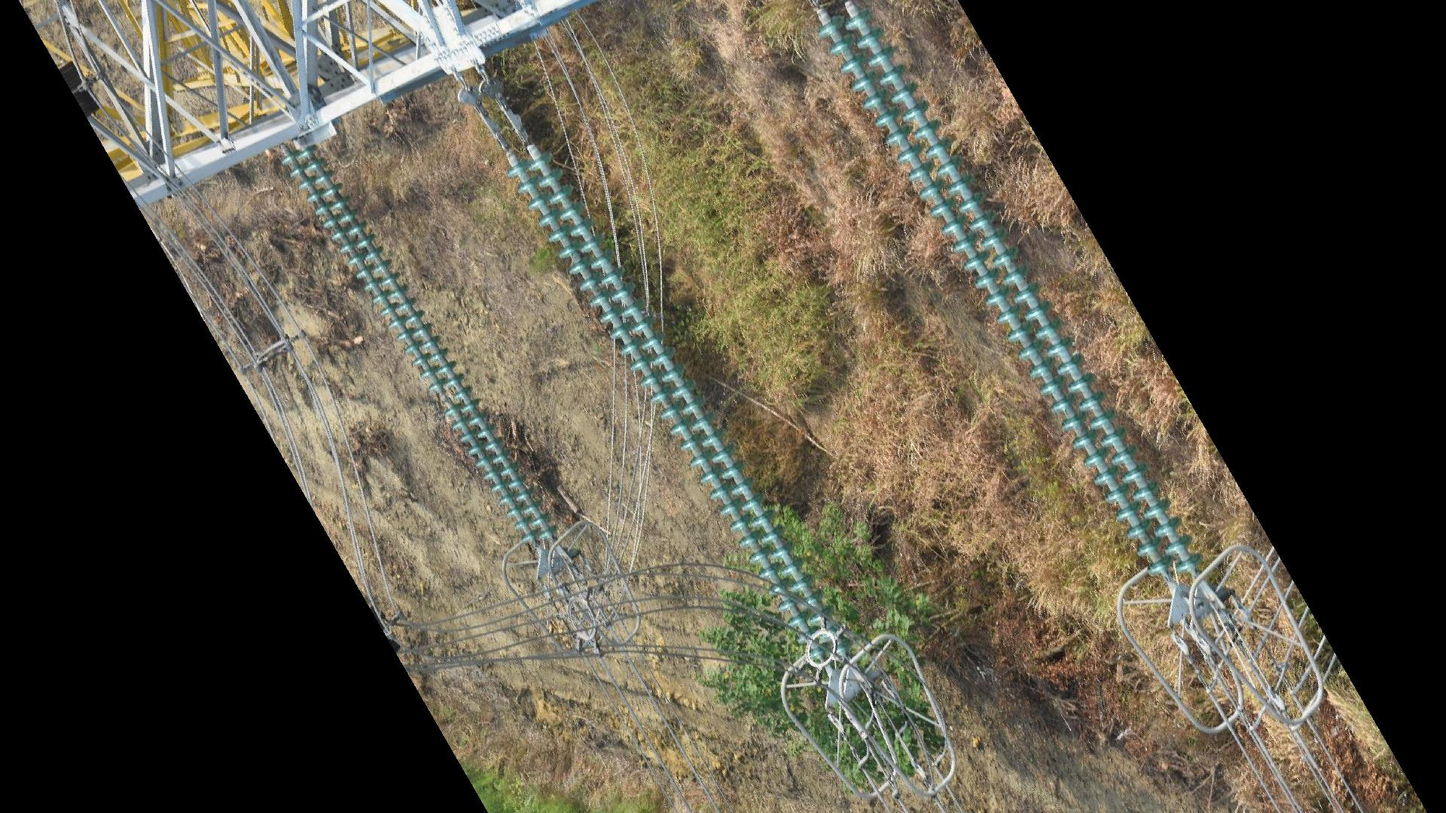insulator: (810, 9, 1203, 580), (498, 146, 854, 668), (276, 139, 562, 547)
insulator_stringdrop: (428, 374, 465, 419)
